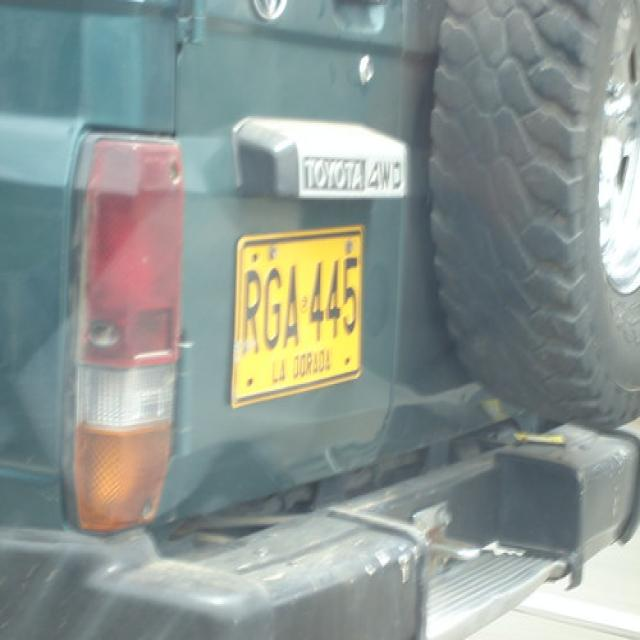placas: (238, 232, 360, 361)
